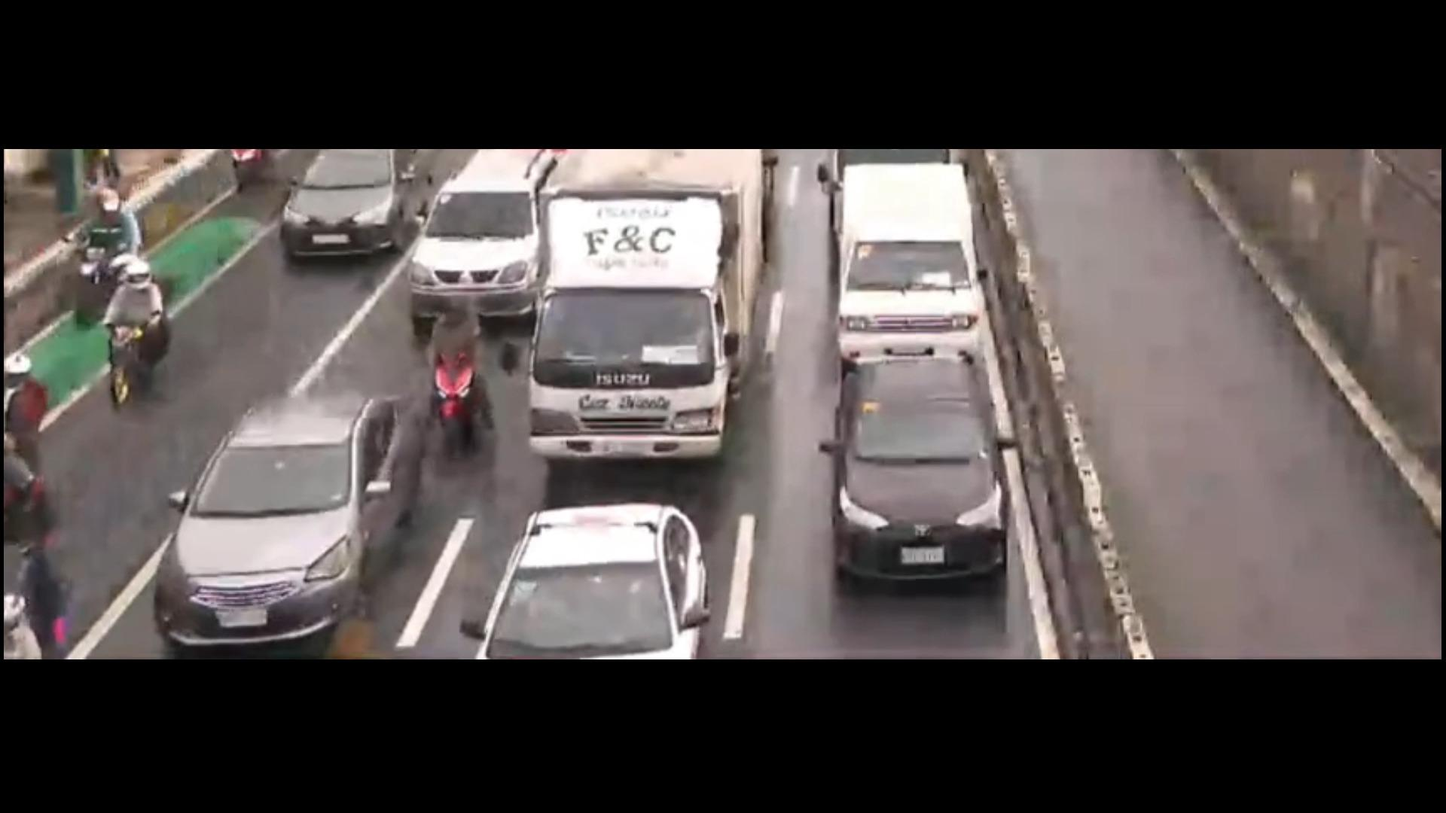Motorcycle: (84, 239, 198, 422), (51, 172, 162, 313), (0, 350, 70, 542), (412, 294, 492, 456), (0, 559, 93, 661), (228, 146, 268, 212)
Multicab: (811, 162, 998, 369)
SUV: (406, 153, 560, 328)
Sedan: (141, 367, 447, 666), (816, 335, 1038, 589), (451, 490, 737, 664), (262, 147, 422, 271)
Truck: (514, 146, 793, 488)
